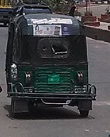cng: (6, 15, 97, 119)
